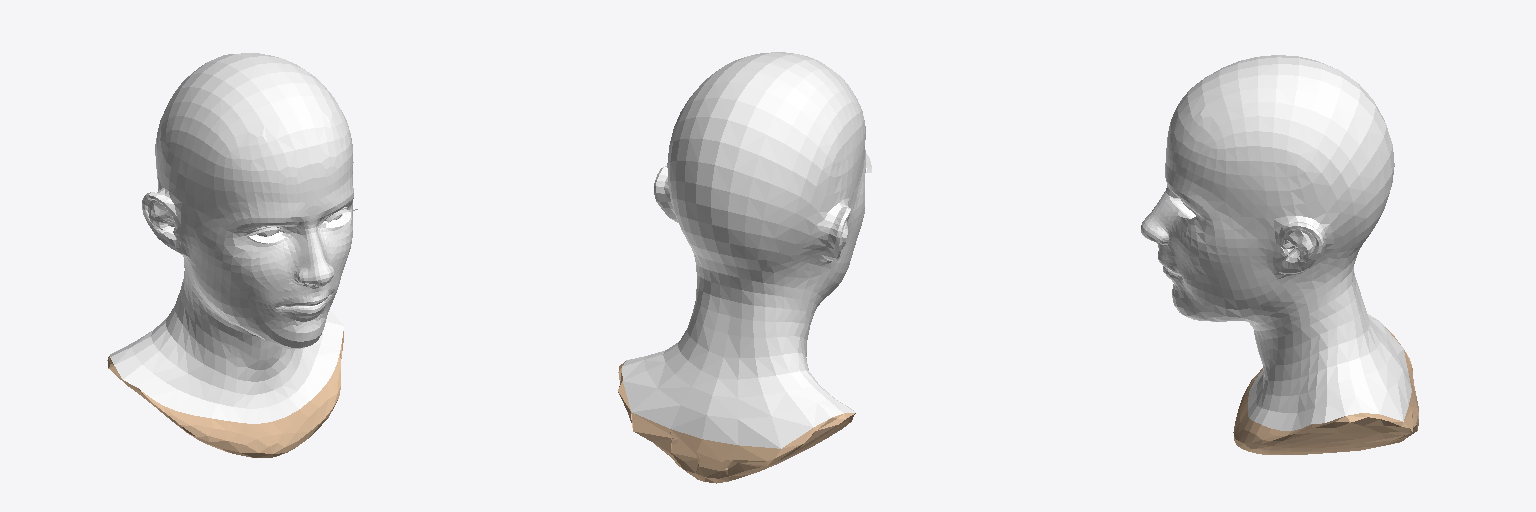
File: hombre1.obj
3 renders of one model, left to right at view 1: azimuth 30°, elevation 25°; view 2: azimuth 150°, elevation 25°; view 3: azimuth 270°, elevation 25°, orthographic.
Visible parts, largest first — view 1: Body, Eyelashes; view 2: Body; view 3: Body.
Boxes of the visible parts, <box> form: Body: <box>110,53,353,423</box>; Eyelashes: <box>243,209,357,243</box>; Body: <box>622,52,865,448</box>; Body: <box>1141,55,1411,430</box>.
Size of the model in its own units: 22.6 by 36.73 by 24.17.